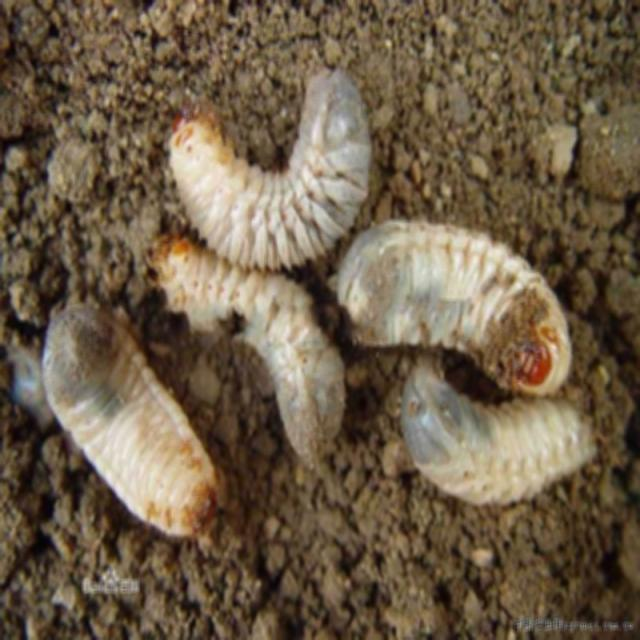grub: (146, 233, 360, 462), (38, 303, 236, 540), (334, 225, 581, 401), (169, 73, 380, 270), (387, 365, 604, 503)
